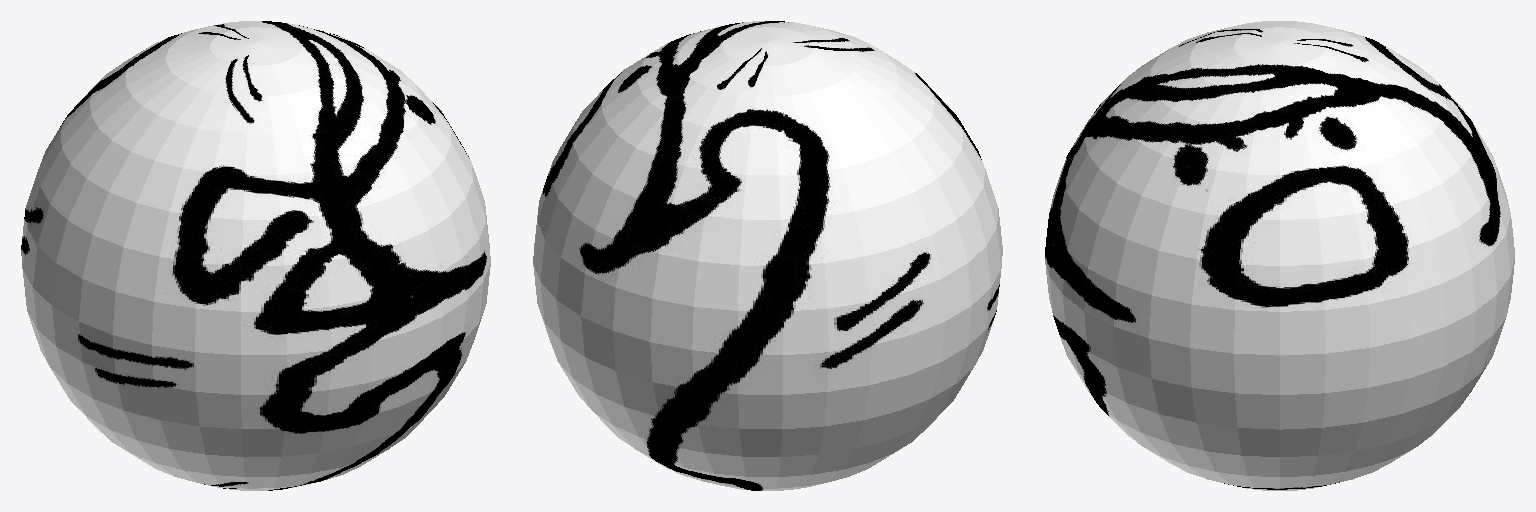
3 views of the same model, side by side, from view 1: azimuth 30°, elevation 25°; view 2: azimuth 150°, elevation 25°; view 3: azimuth 270°, elevation 25° (orthographic).
Visible parts, largest first — view 1: Sphere; view 2: Sphere; view 3: Sphere.
Boxes of the visible parts, x1=… form: Sphere: x1=21, y1=21, x2=490, y2=490; Sphere: x1=533, y1=21, x2=1002, y2=490; Sphere: x1=1045, y1=21, x2=1514, y2=490.
Size of the model in its own units: 2 by 2 by 2.
1 materials, 1 textured.